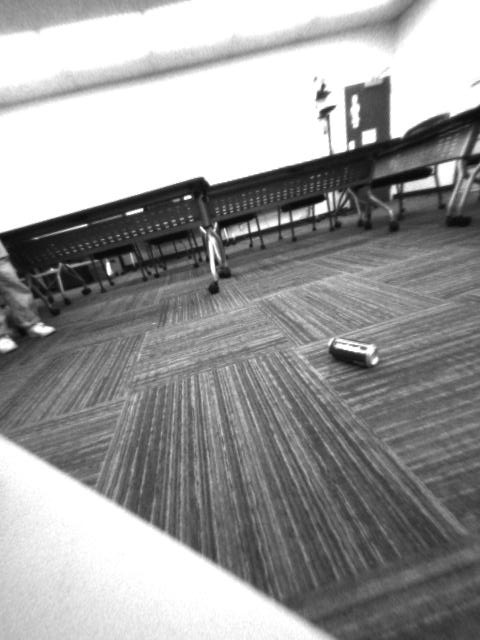can: (324, 333, 384, 373)
